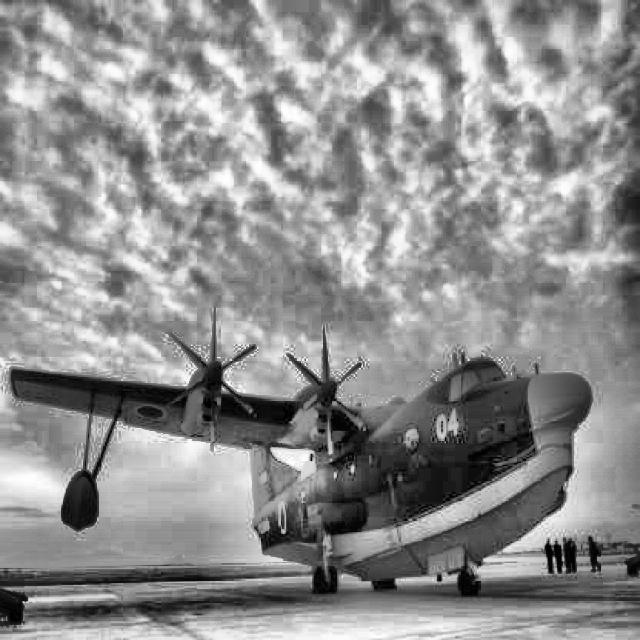US2: (8, 306, 592, 596)
